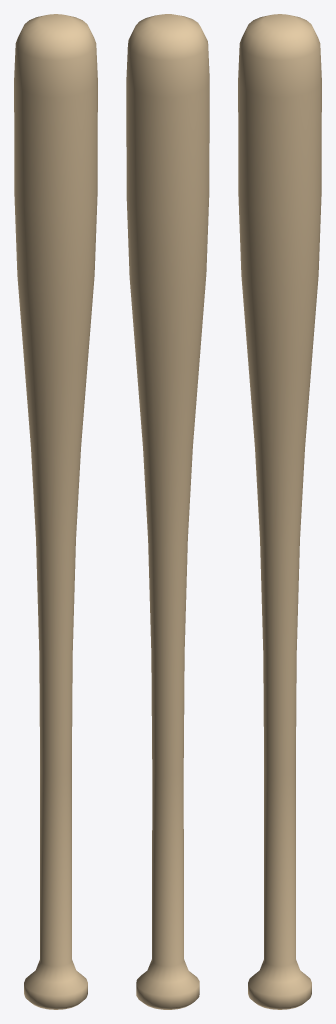
File: bat.glb
3 renders of one model, left to right at view 1: azimuth 90°, elevation 25°; view 2: azimuth 150°, elevation 25°; view 3: azimuth 270°, elevation 25°, orthographic.
Visible parts, largest first — view 1: Bat; view 2: Bat; view 3: Bat.
Part boxes in pixels (x1,y1,x2,y2): Bat: (14, 14, 97, 1009); Bat: (126, 14, 209, 1009); Bat: (238, 14, 321, 1009).
Size of the model in its own units: 0.0662 by 0.851 by 0.0662.
